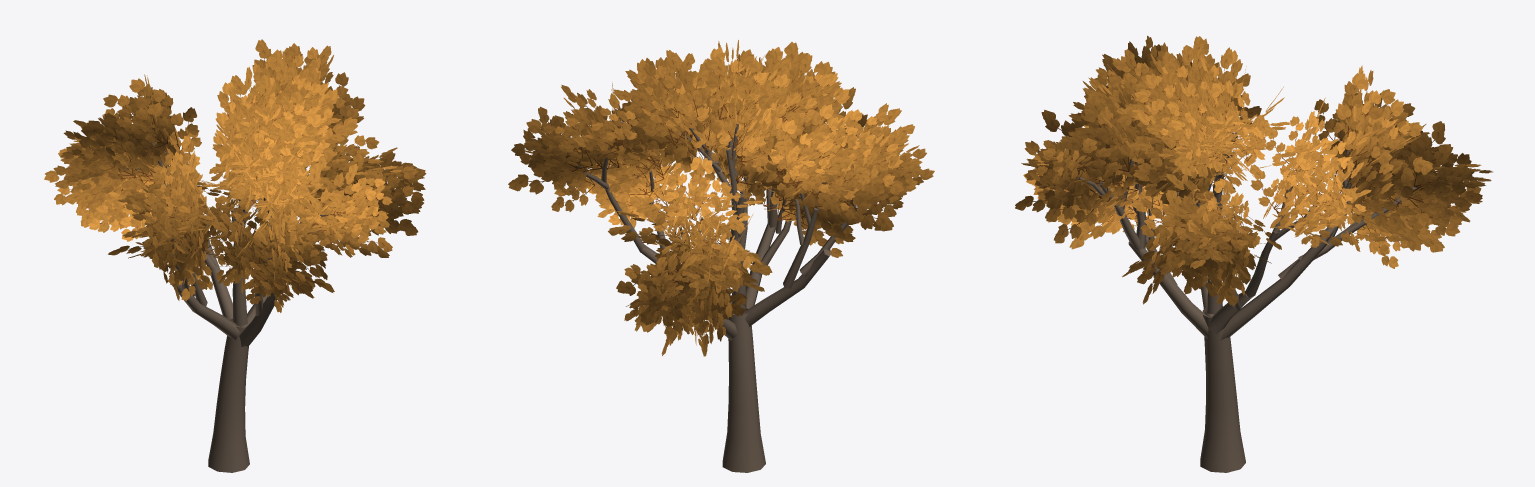
File: maple_autumn_1.glb
3 renders of one model, left to right at view 1: azimuth 30°, elevation 25°; view 2: azimuth 150°, elevation 25°; view 3: azimuth 270°, elevation 25°, orthographic. The views are drawn at different scales.
Parts seen in each view (by area): view 1: maple_autumn_1; view 2: maple_autumn_1; view 3: maple_autumn_1.
Part boxes in pixels (x1,y1,x2,y2): maple_autumn_1: [44, 39, 426, 472]; maple_autumn_1: [508, 40, 934, 472]; maple_autumn_1: [1015, 35, 1492, 472].
Bounding box in the file's own units: 8.46 × 9.33 × 9.8.
Materials: 2 (1 with a texture image).
